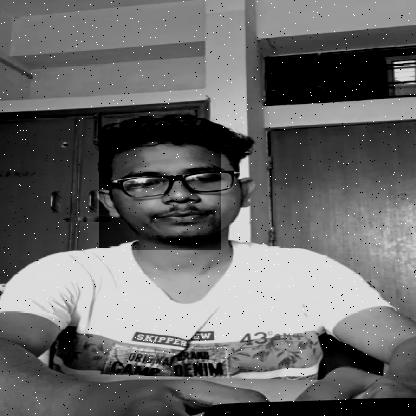Normal: (99, 130, 221, 250)
